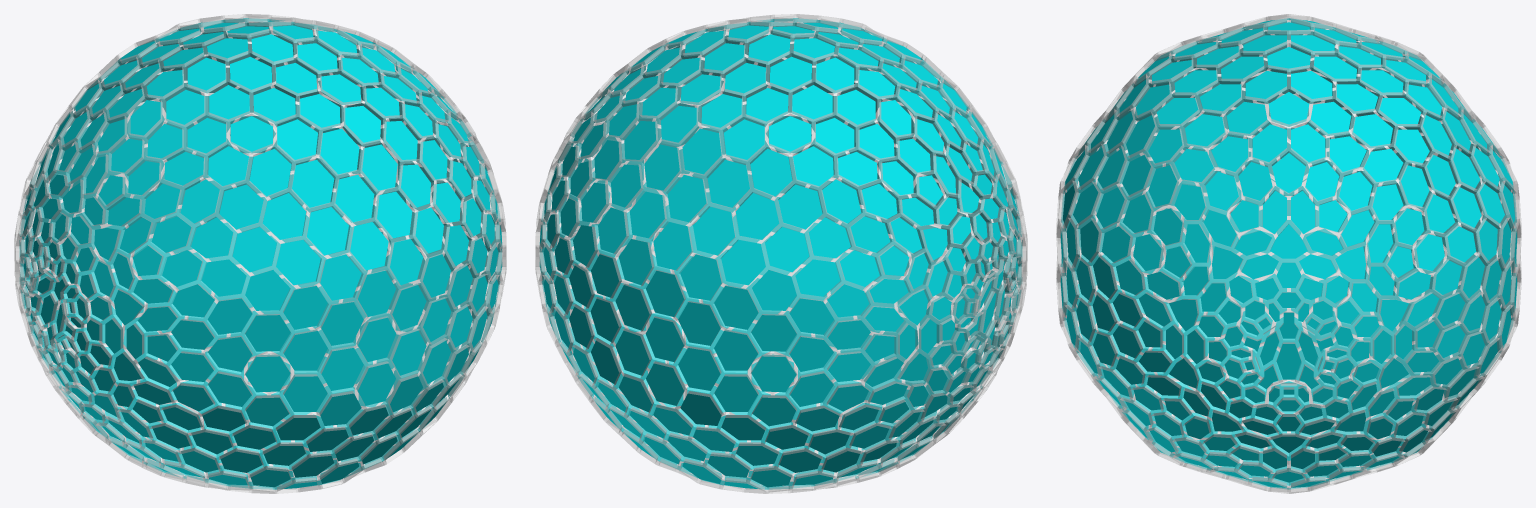
File: 06_06_Scanner.fbx
The picture shows the model from 3 angles, left to right: view 1: azimuth 30°, elevation 25°; view 2: azimuth 150°, elevation 25°; view 3: azimuth 270°, elevation 25°; orthographic projection. The views are drawn at different scales.
Visible parts, largest first — view 1: Scanner_OBJ; view 2: Scanner_OBJ; view 3: Scanner_OBJ.
Part boxes in pixels (bbox=[...]): Scanner_OBJ: bbox=[14, 14, 506, 493]; Scanner_OBJ: bbox=[535, 14, 1027, 493]; Scanner_OBJ: bbox=[1056, 14, 1521, 493].
Bounding box in the file's own units: 144 × 143 × 138.
